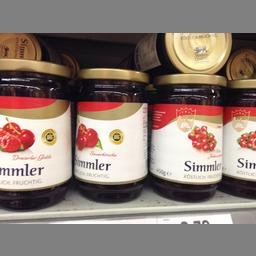jam: (0, 57, 70, 210), (73, 66, 150, 202), (152, 73, 224, 202), (130, 32, 232, 72), (224, 78, 255, 199)
